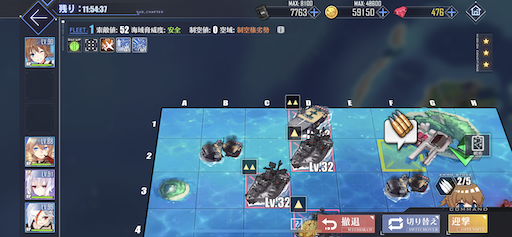lv1: (287, 127, 332, 171)
lv2: (240, 161, 286, 207), (287, 127, 332, 171), (284, 94, 326, 127)
